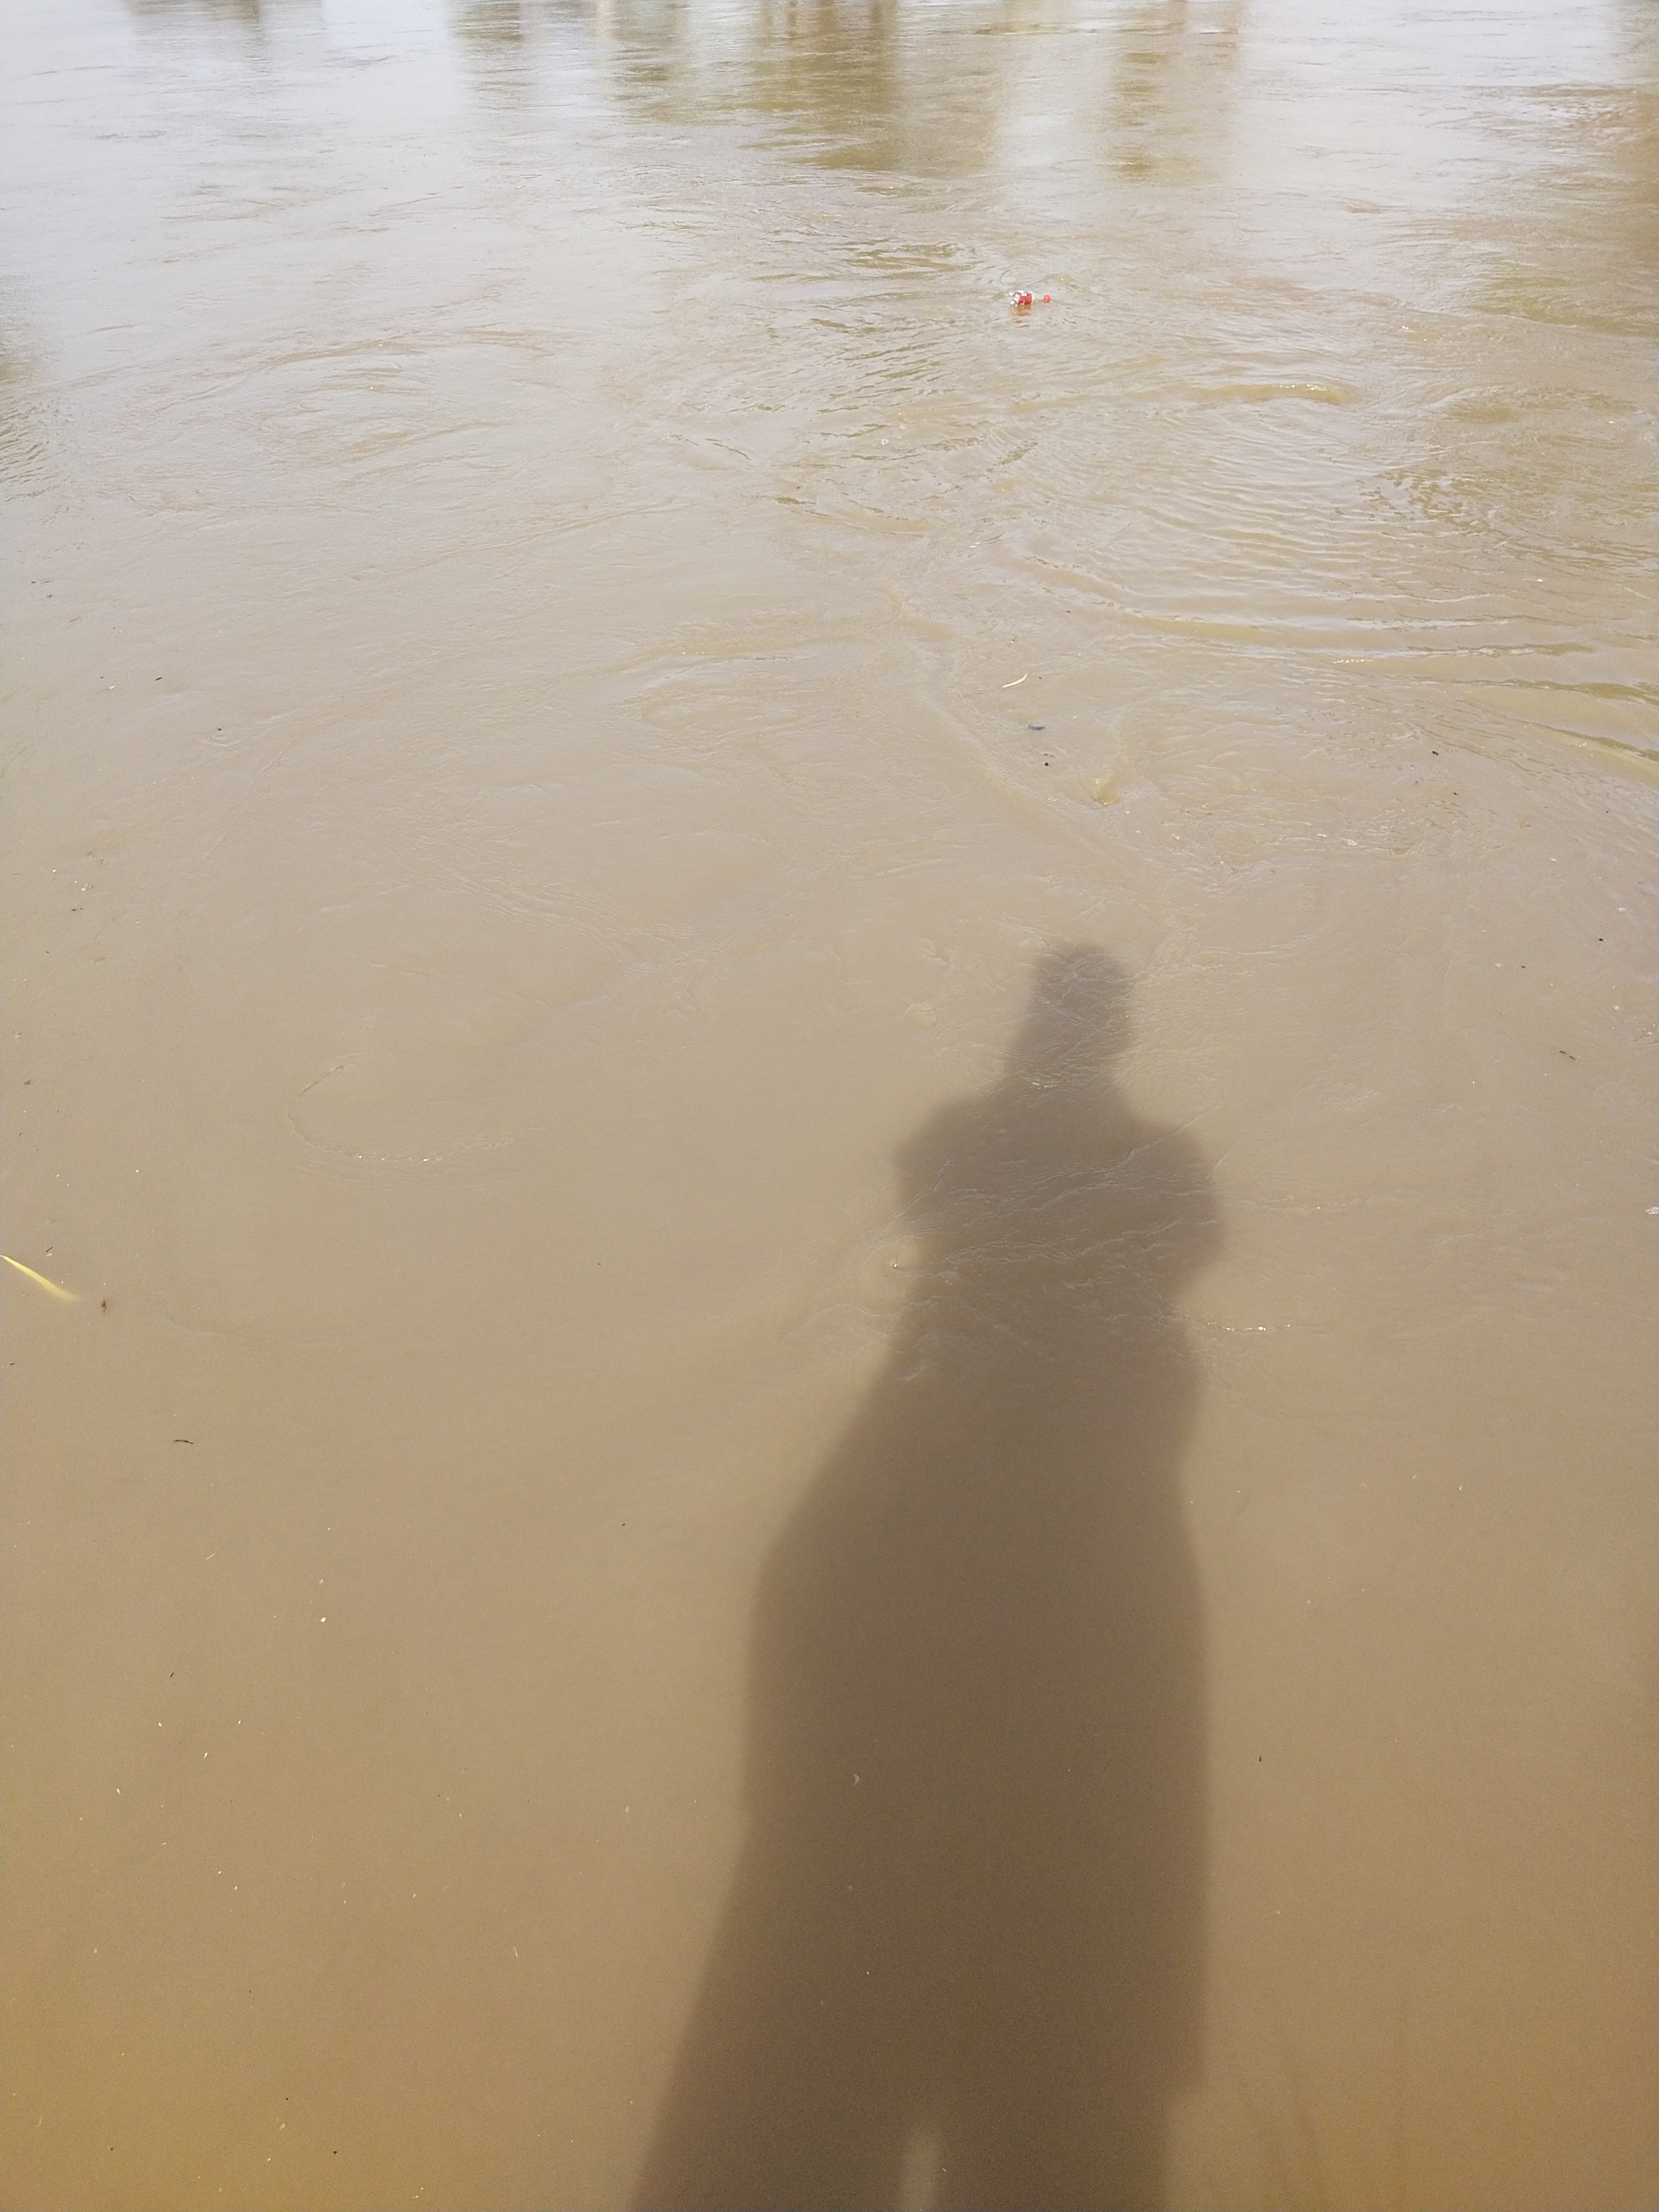Plastic Bottle: (1007, 289, 1051, 305)
